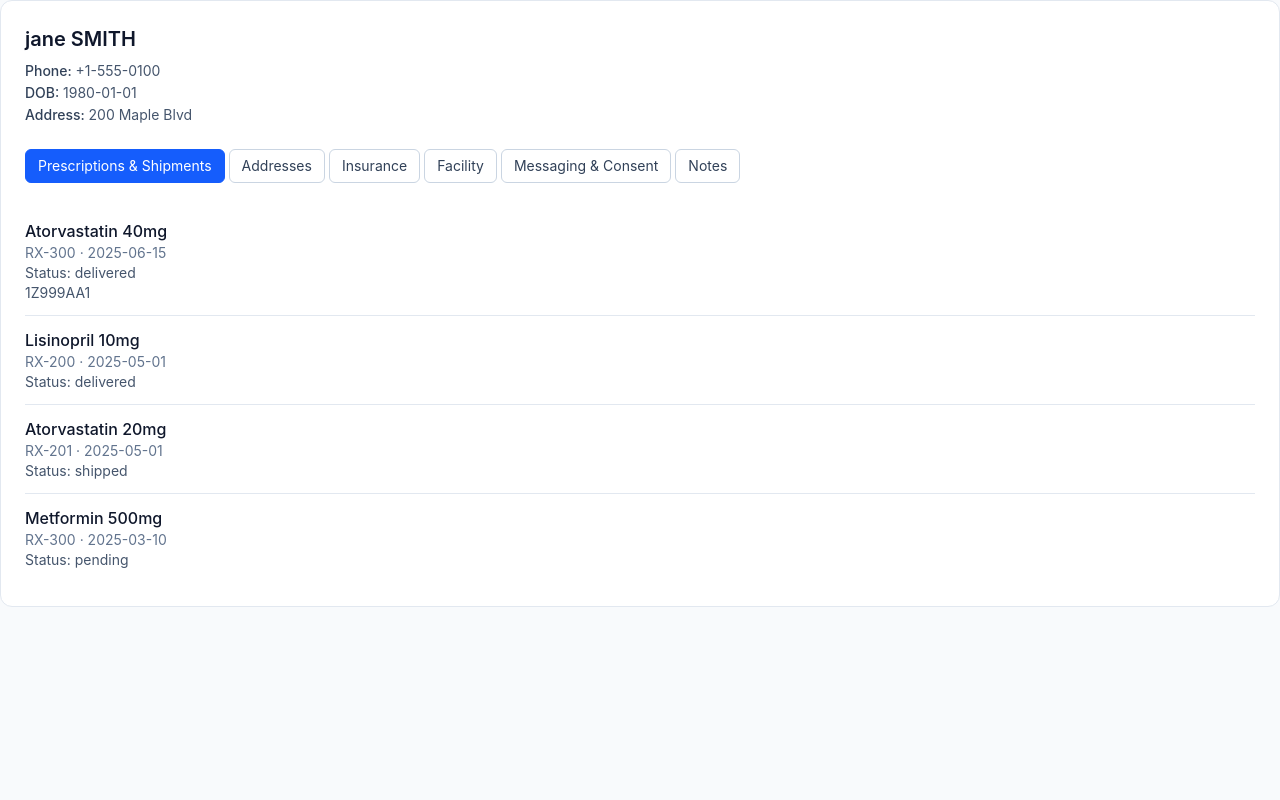
Test: PatientProfile › shows the Addresses tab with Facility/Home/MD sections
This screenshot has width=1280, height=800.
Click the button "Addresses".
click(277, 166)  # box [229, 149, 325, 183]
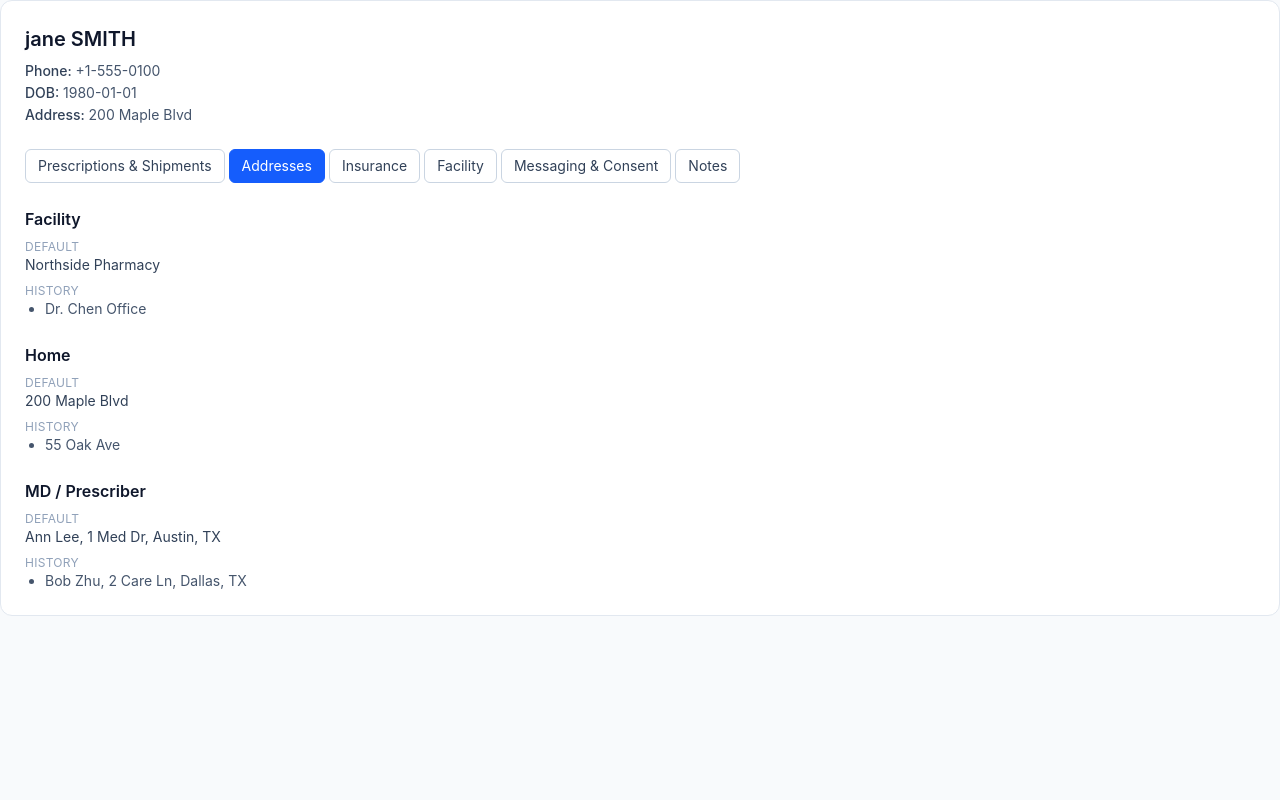
Result: the heading "Home" is shown at [25, 345, 70, 365]
Result: the heading "MD / Prescriber" is shown at [25, 481, 146, 501]
Result: the text "Ann Lee, 1 Med Dr, Austin, TX" is shown at [25, 528, 221, 545]
